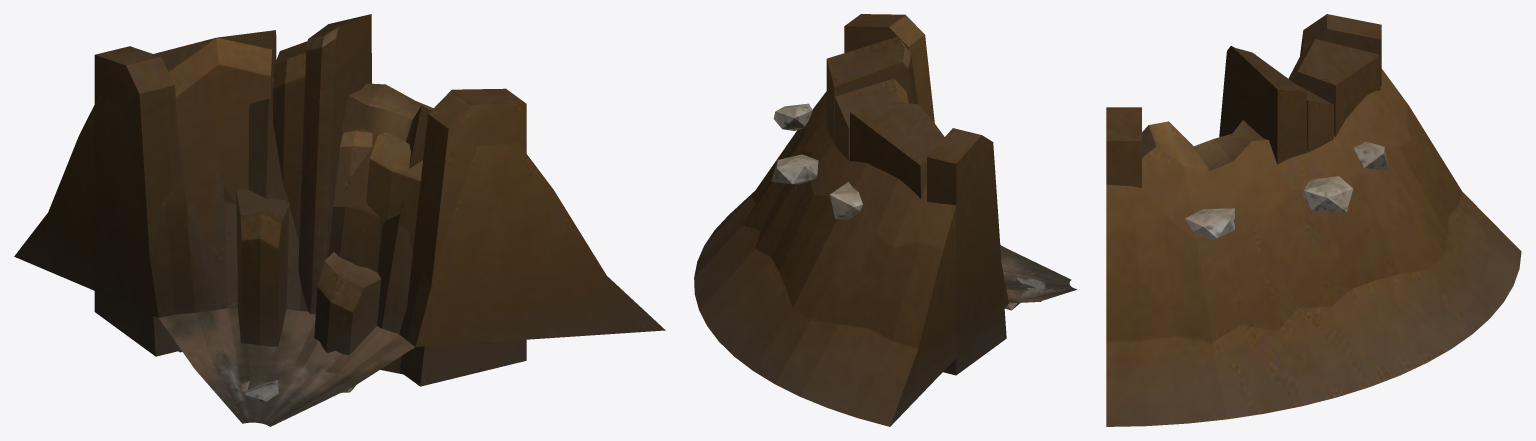
File: cliff-inner-1.glb
The picture shows the model from 3 angles, left to right: view 1: azimuth 30°, elevation 25°; view 2: azimuth 150°, elevation 25°; view 3: azimuth 270°, elevation 25°; orthographic projection. The views are drawn at different scales.
Parts seen in each view (by area): view 1: cliff-inner-1; view 2: cliff-inner-1; view 3: cliff-inner-1.
Part boxes in pixels (box(x1,y1,x2,y2)): cliff-inner-1: box(14, 14, 665, 426); cliff-inner-1: box(694, 14, 1077, 426); cliff-inner-1: box(1106, 14, 1521, 426).
Bounding box in the file's own units: 3.5 × 2.54 × 3.5.
3 materials, 3 textured.
